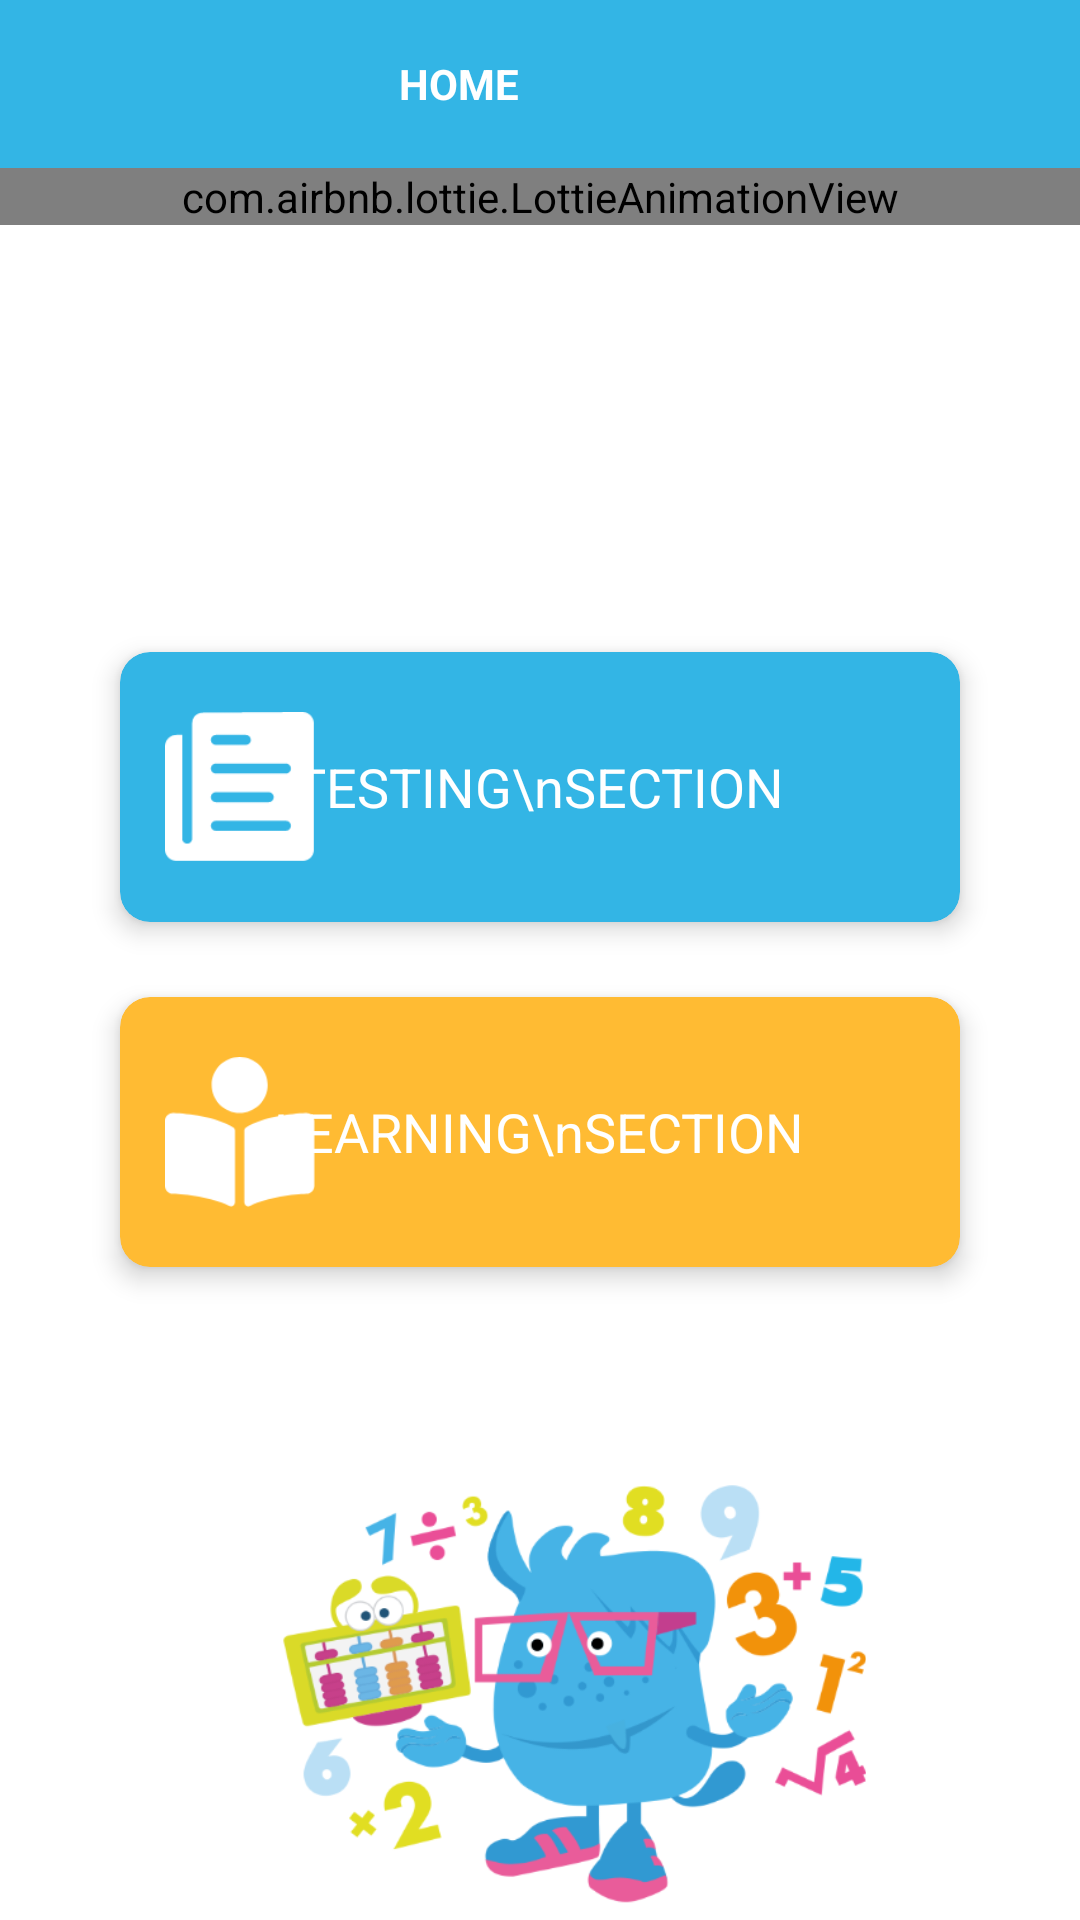

Where to tap for icons on this 1080x1920 app screen, as point (x, y):
book: point (216, 1132)
paper: point (240, 786)
